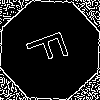F: (25, 25, 78, 70)
